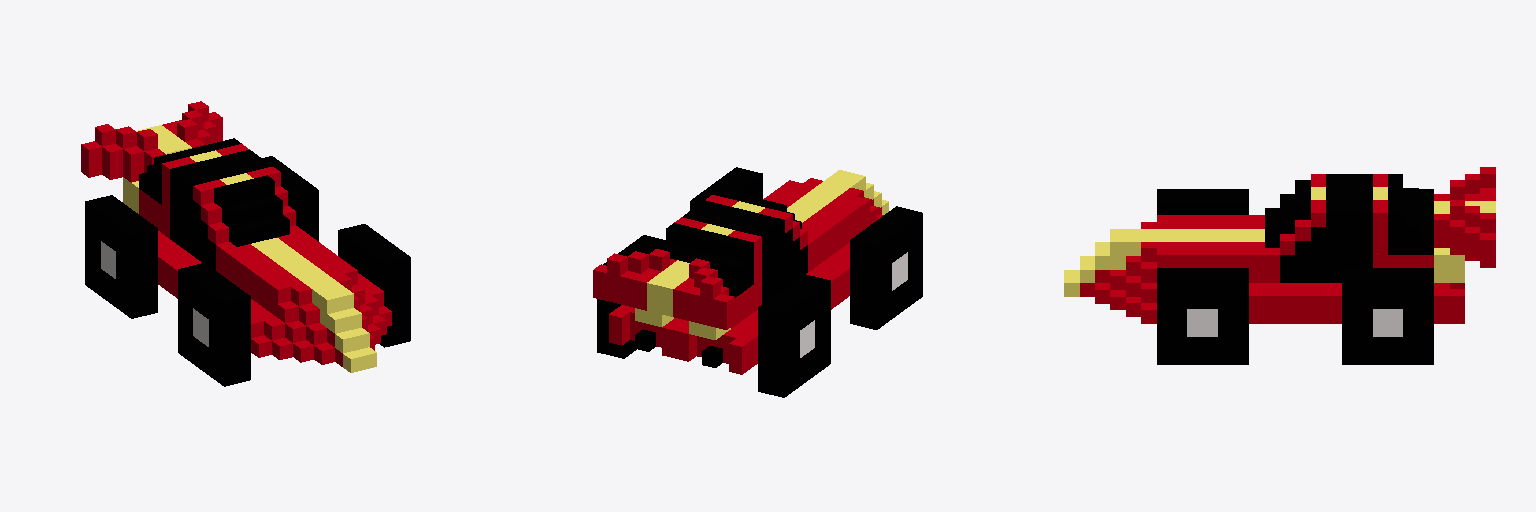
3 views of the same model, side by side, from view 1: azimuth 30°, elevation 25°; view 2: azimuth 150°, elevation 25°; view 3: azimuth 270°, elevation 25° (orthographic).
Parts seen in each view (by area): view 1: Model; view 2: Model; view 3: Model.
Boxes of the visible parts, x1,y1,x2,y2 form: Model: [81, 101, 410, 386]; Model: [593, 167, 922, 397]; Model: [1064, 167, 1495, 364].
Size of the model in its own units: 14 by 9 by 28.
Materials: 1 (1 with a texture image).